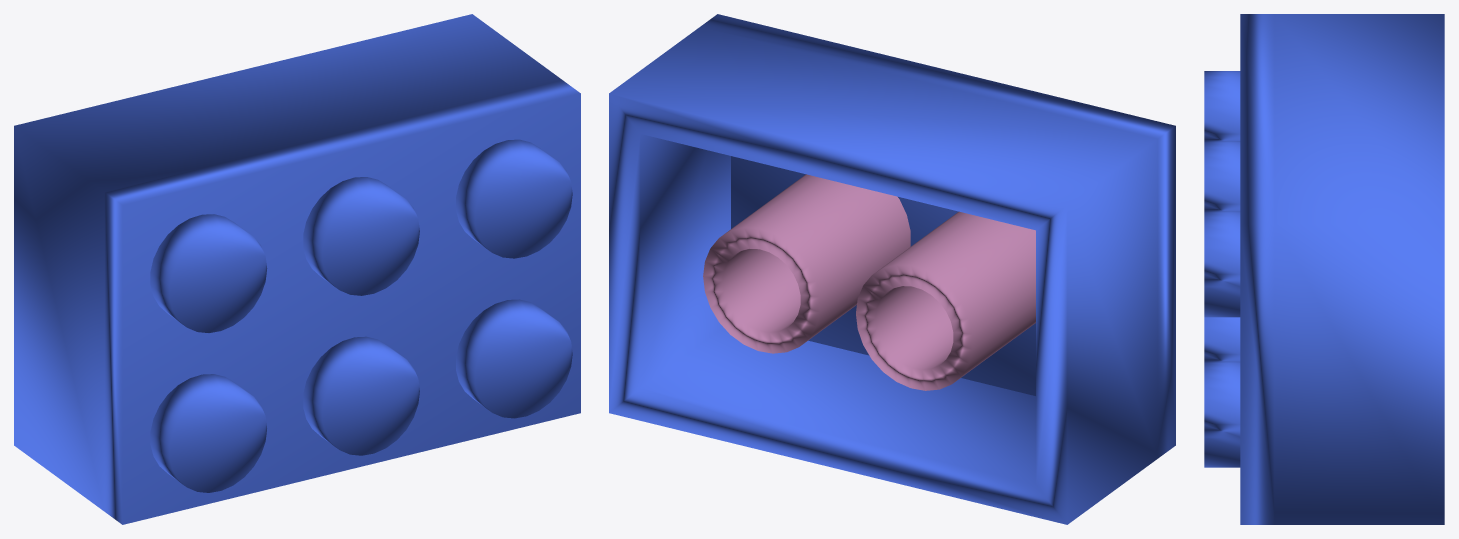
Rendered from legobrick.dae.
3 views of the same model, side by side, from view 1: azimuth 30°, elevation 25°; view 2: azimuth 150°, elevation 25°; view 3: azimuth 270°, elevation 25° (orthographic). The views are drawn at different scales.
Parts seen in each view (by area): view 1: Mesh_outside.001_OutsideColor-LegoBrick; view 2: Mesh_outside.001_OutsideColor-LegoBrick, Mesh_inside.001_InsideColor-LegoBrick; view 3: Mesh_outside.001_OutsideColor-LegoBrick.
Part boxes in pixels (bbox=[...]): Mesh_outside.001_OutsideColor-LegoBrick: bbox=[14, 14, 580, 524]; Mesh_outside.001_OutsideColor-LegoBrick: bbox=[609, 14, 1175, 524]; Mesh_inside.001_InsideColor-LegoBrick: bbox=[703, 174, 1035, 390]; Mesh_outside.001_OutsideColor-LegoBrick: bbox=[1204, 14, 1444, 524].
Size of the model in its own units: 75 by 50 by 36.22.
